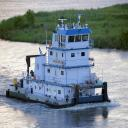tugboat: (6, 14, 113, 112)
